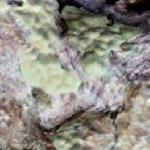alive: (21, 21, 138, 145)
